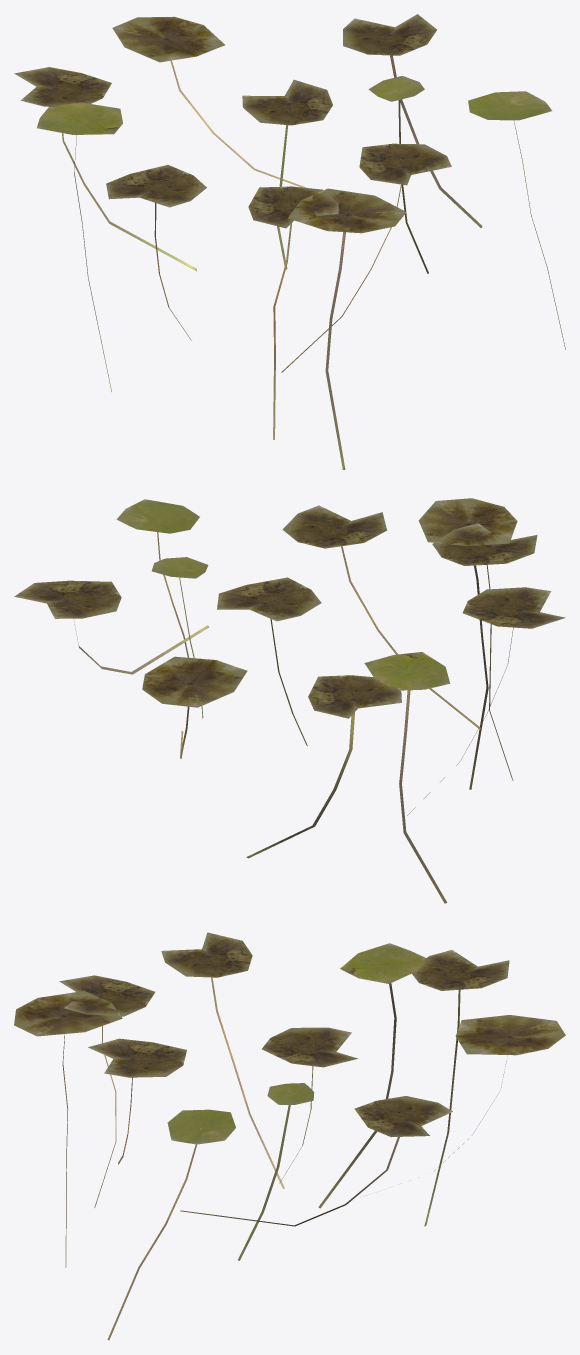
The picture shows the model from 3 angles, top to bottom: view 1: azimuth 30°, elevation 25°; view 2: azimuth 150°, elevation 25°; view 3: azimuth 270°, elevation 25°; orthographic projection. The views are drawn at different scales.
Visible parts, largest first — view 1: _8749_Var2_LOD3; view 2: _8749_Var2_LOD3; view 3: _8749_Var2_LOD3.
Part boxes in pixels (left/top/right/bottom): _8749_Var2_LOD3: left=14, top=14, right=565, bottom=469; _8749_Var2_LOD3: left=14, top=498, right=565, bottom=903; _8749_Var2_LOD3: left=14, top=932, right=565, bottom=1340.
Bounding box in the file's own units: 3.47 × 1.99 × 3.89.
